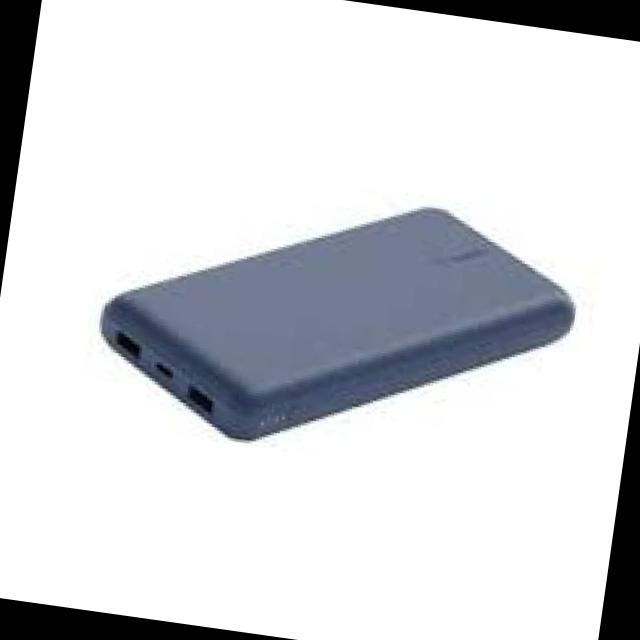power_bank: (79, 155, 594, 489)
